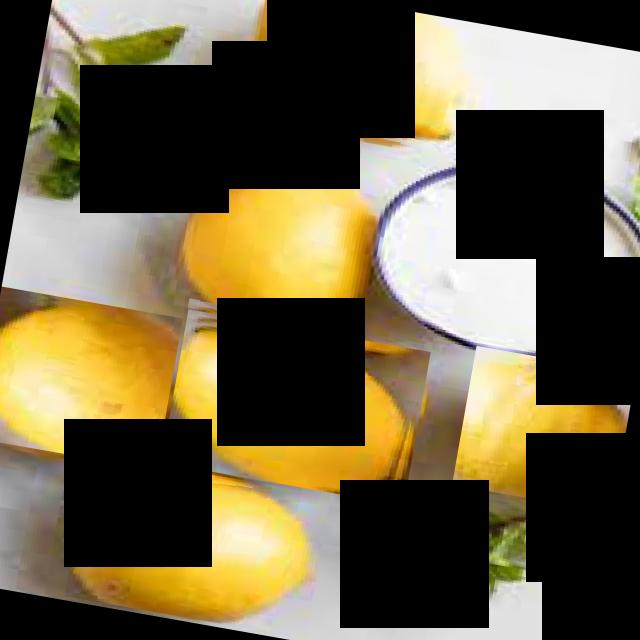lemon: (161, 309, 430, 505), (64, 454, 328, 638), (170, 130, 386, 348), (244, 0, 496, 158), (0, 286, 182, 470), (452, 346, 636, 512)
